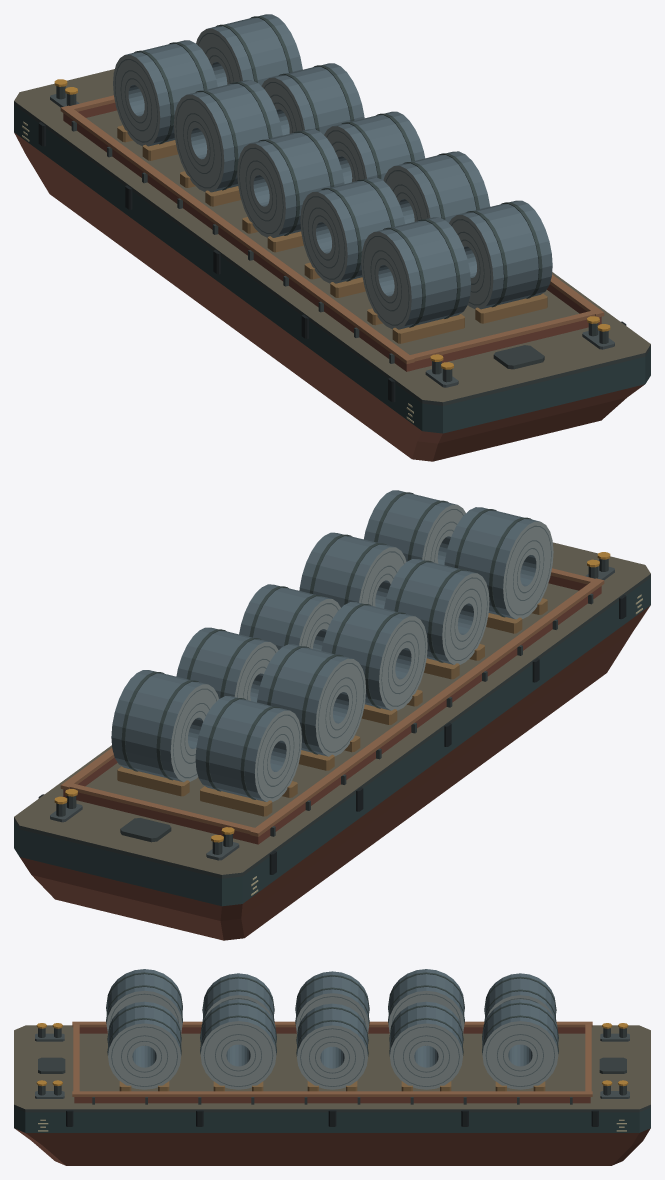
The model's file is barge_coils_mid.glb.
3 views of the same model, one above another, from view 1: azimuth 30°, elevation 25°; view 2: azimuth 150°, elevation 25°; view 3: azimuth 270°, elevation 25° (orthographic). The views are drawn at different scales.
Visible parts, largest first — view 1: Steel scow.003, Banded steel coils; view 2: Steel scow.003, Banded steel coils; view 3: Steel scow.003, Banded steel coils.
Part boxes in pixels (left/top/right/bottom): Steel scow.003: left=14, top=69, right=650, bottom=461; Banded steel coils: left=113, top=14, right=552, bottom=343; Steel scow.003: left=14, top=542, right=650, bottom=940; Banded steel coils: left=111, top=490, right=553, bottom=816; Steel scow.003: left=14, top=1021, right=650, bottom=1165; Banded steel coils: left=106, top=969, right=558, bottom=1091.
Bounding box in the file's own units: 7.68 × 5.64 × 24.
